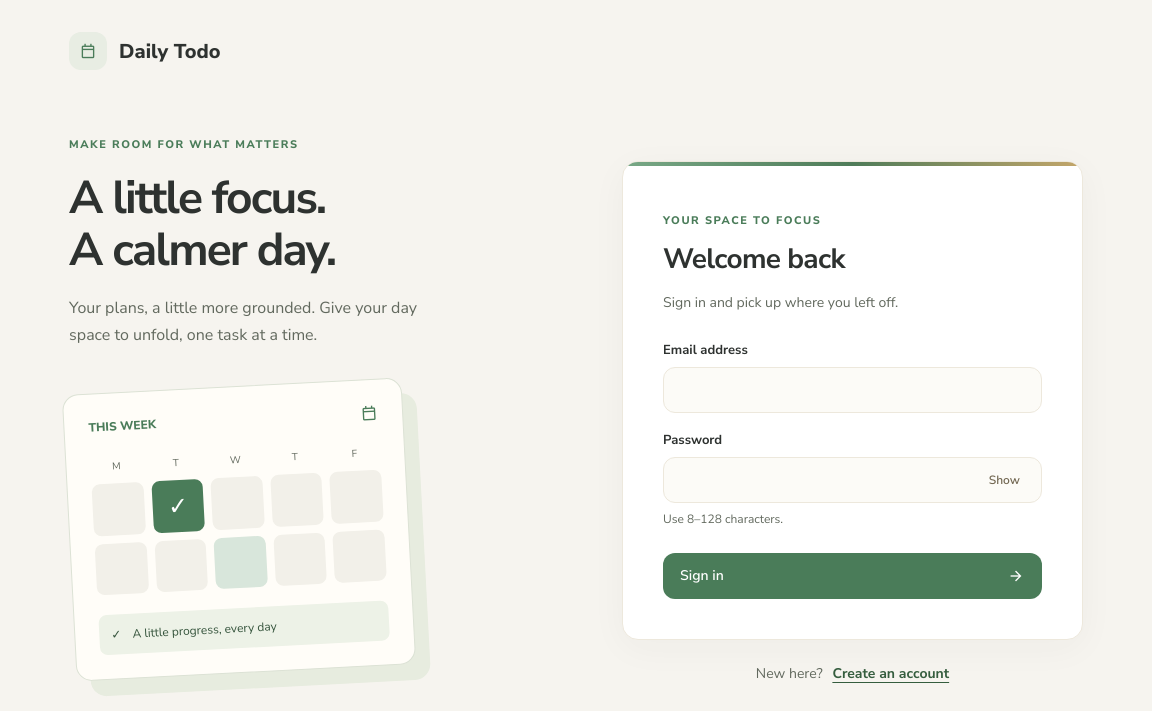
Test: AuthPageComponent › prevents duplicate submissions while pending and shows an actionable login error
Type "ada@example.com" into the field with id "email". click: {"x": 852, "y": 390}
box: [663,367,1042,413]
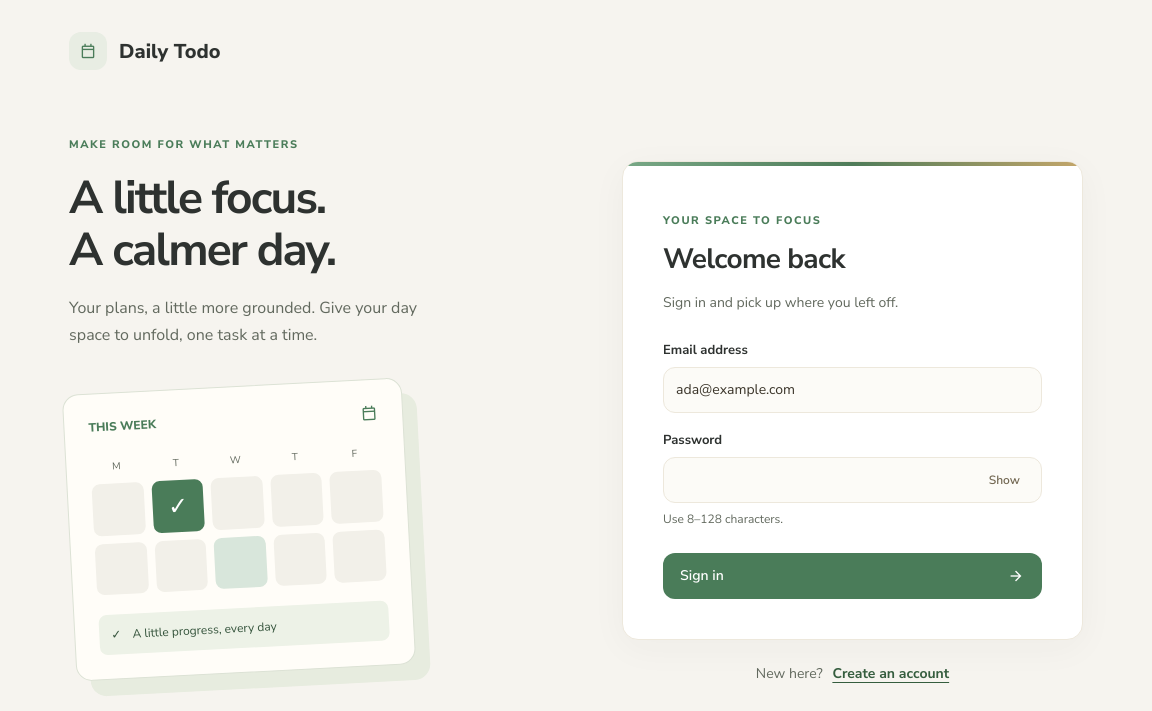
Type "twelve-chars!" into the password field labelled "Password". click: {"x": 852, "y": 480}
box: [663,457,1042,503]
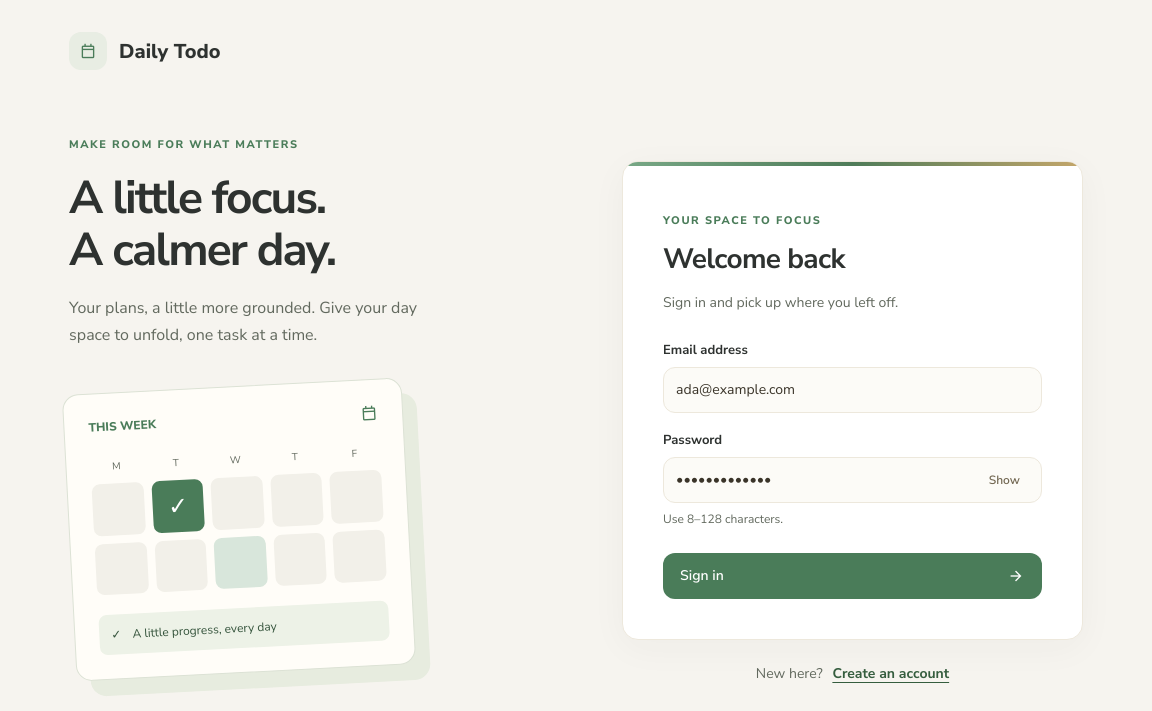
Submit the form, box [663,341,1042,599]
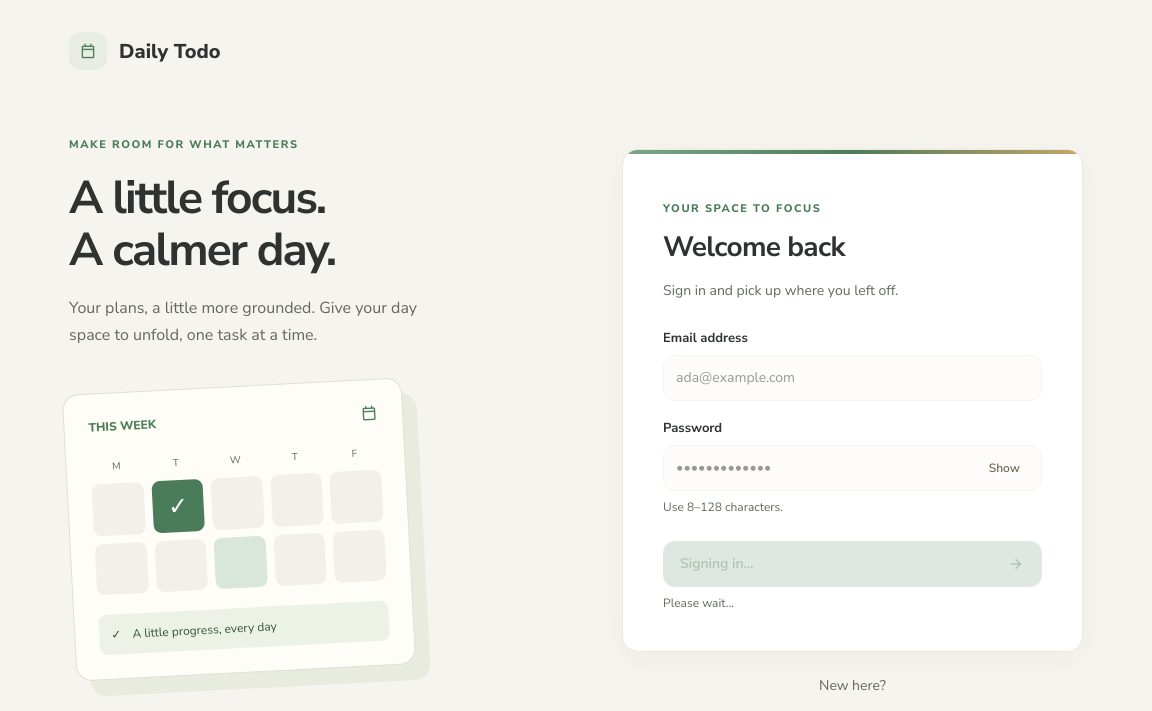
Expected: the submit button is disabled, [663,541,1042,587]
Expected: the field with id "email" is disabled, [663,355,1042,401]
Expected: the text "Signing in…" is shown, [663,541,1042,587]
Submit the form, box [663,329,1042,611]
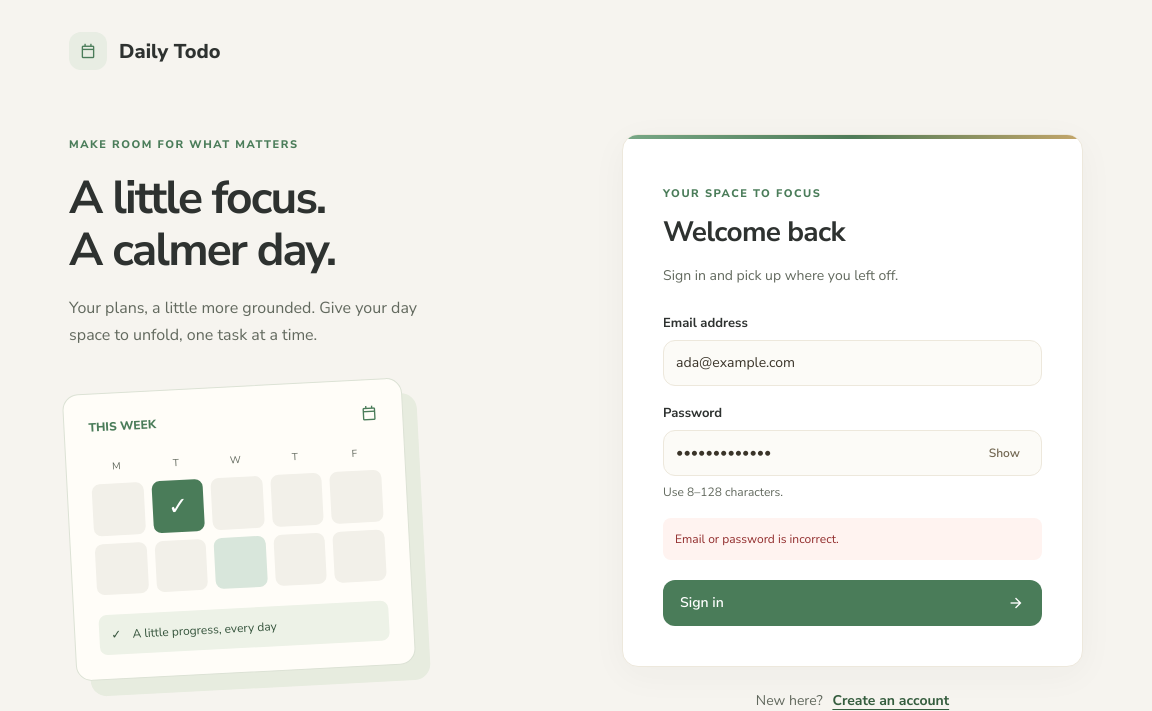
Expected: the message "Email or password is incorrect." is shown, [663,518,1042,560]
Expected: the submit button is enabled, [663,580,1042,626]
